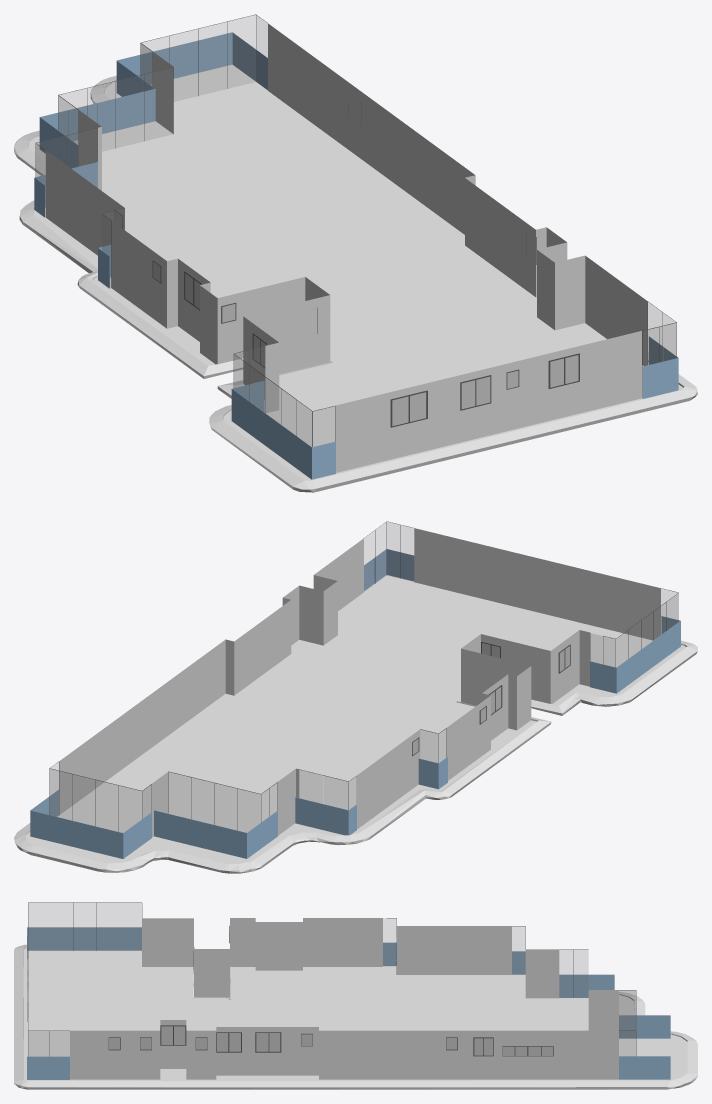
Rendered from ApSacada.fbx.
3 views of the same model, one above another, from view 1: azimuth 30°, elevation 25°; view 2: azimuth 150°, elevation 25°; view 3: azimuth 270°, elevation 25° (orthographic). The views are drawn at different scales.
Parts seen in each view (by area): view 1: ApSacada, Vidraca6, Vidraca5, VidroSacada6, Vidraca2, VidroSacada2, VidroSacada5, Vidraca4, Vidraca1, VidroSacada1, VidroSacada4, Vidro4; view 2: ApSacada, Vidraca6, Vidraca5, VidroSacada6, VidroSacada5, Vidraca2, Vidraca1, VidroSacada2, VidroSacada4, Vidraca4, VidroSacada1, VidroSacada3 (+1 smaller); view 3: ApSacada, Vidraca2, VidroSacada2, VidroSacada6, Vidraca5, Vidraca6, VidroSacada5, Vidraca1, VidroSacada1, Vidraca3, Vidro9, Vidraca4 (+5 smaller).
Boxes of the visible parts, x1,y1,x2,y2 form: ApSacada: [14, 23, 697, 492]; Vidraca6: [140, 14, 267, 101]; Vidraca5: [58, 67, 173, 166]; VidroSacada6: [116, 32, 267, 96]; Vidraca2: [233, 347, 335, 446]; VidroSacada2: [231, 381, 335, 479]; VidroSacada5: [39, 89, 155, 168]; Vidraca4: [35, 127, 97, 207]; Vidraca1: [642, 301, 676, 398]; VidroSacada1: [643, 336, 678, 398]; VidroSacada4: [34, 162, 97, 217]; Vidro4: [393, 393, 425, 425]; ApSacada: [14, 528, 697, 873]; Vidraca6: [49, 761, 151, 832]; Vidraca5: [168, 771, 277, 832]; VidroSacada6: [30, 789, 151, 858]; VidroSacada5: [154, 810, 277, 858]; Vidraca2: [591, 588, 678, 667]; Vidraca1: [364, 521, 414, 591]; VidroSacada2: [590, 616, 680, 693]; VidroSacada4: [295, 797, 356, 835]; Vidraca4: [299, 769, 356, 809]; VidroSacada1: [364, 549, 414, 590]; VidroSacada3: [418, 757, 447, 789]; ApSacada: [14, 918, 697, 1089]; Vidraca2: [28, 902, 142, 950]; VidroSacada2: [27, 927, 141, 958]; VidroSacada6: [619, 1015, 670, 1079]; Vidraca5: [559, 949, 588, 997]; Vidraca6: [619, 990, 636, 1055]; VidroSacada5: [559, 974, 614, 997]; Vidraca1: [28, 1019, 69, 1056]; VidroSacada1: [27, 1056, 69, 1079]; Vidraca3: [383, 918, 396, 974]; Vidro9: [475, 1039, 552, 1055]; Vidraca4: [512, 926, 525, 974].
Bounding box in the file's own units: 1971 × 341 × 3988.
